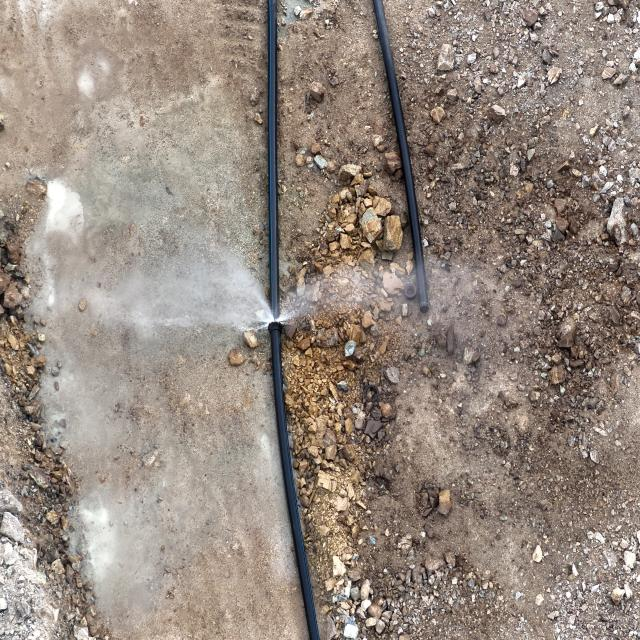leak: (76, 228, 542, 371)
